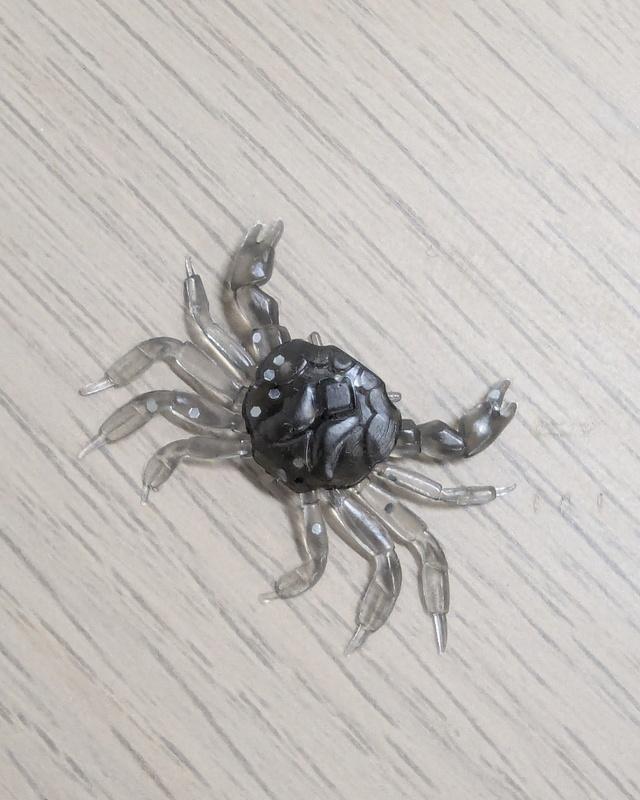crab1: (75, 220, 521, 659)
